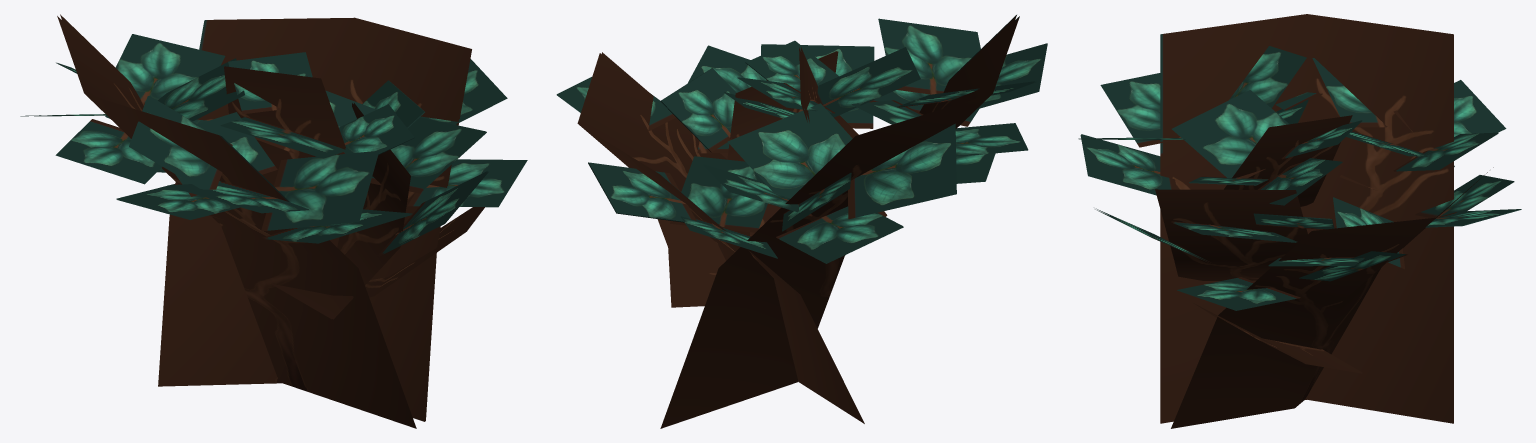
File: bush_02b.fbx
The picture shows the model from 3 angles, left to right: view 1: azimuth 30°, elevation 25°; view 2: azimuth 150°, elevation 25°; view 3: azimuth 270°, elevation 25°; orthographic projection. The views are drawn at different scales.
Parts seen in each view (by area): view 1: bush_02b; view 2: bush_02b; view 3: bush_02b.
Boxes of the visible parts, x1,y1,x2,y2 form: bush_02b: (20, 14, 527, 428); bush_02b: (556, 15, 1047, 428); bush_02b: (1078, 14, 1521, 428).
Size of the model in its own units: 7.66 by 5.64 by 7.49.
